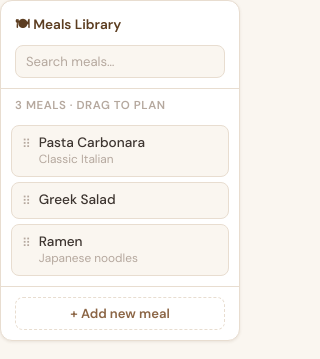
Test: MealsSidebar › shows "no results" message when search finds nothing
This screenshot has width=320, height=359.
Step 1. Type "xyznotfound" into the field with placeholder "Search meals…" → coordinates (120, 62), box [15, 45, 225, 78]
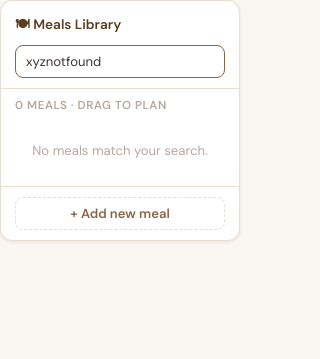
Expected: the text "No meals match your search." is shown, [32, 142, 208, 159]
